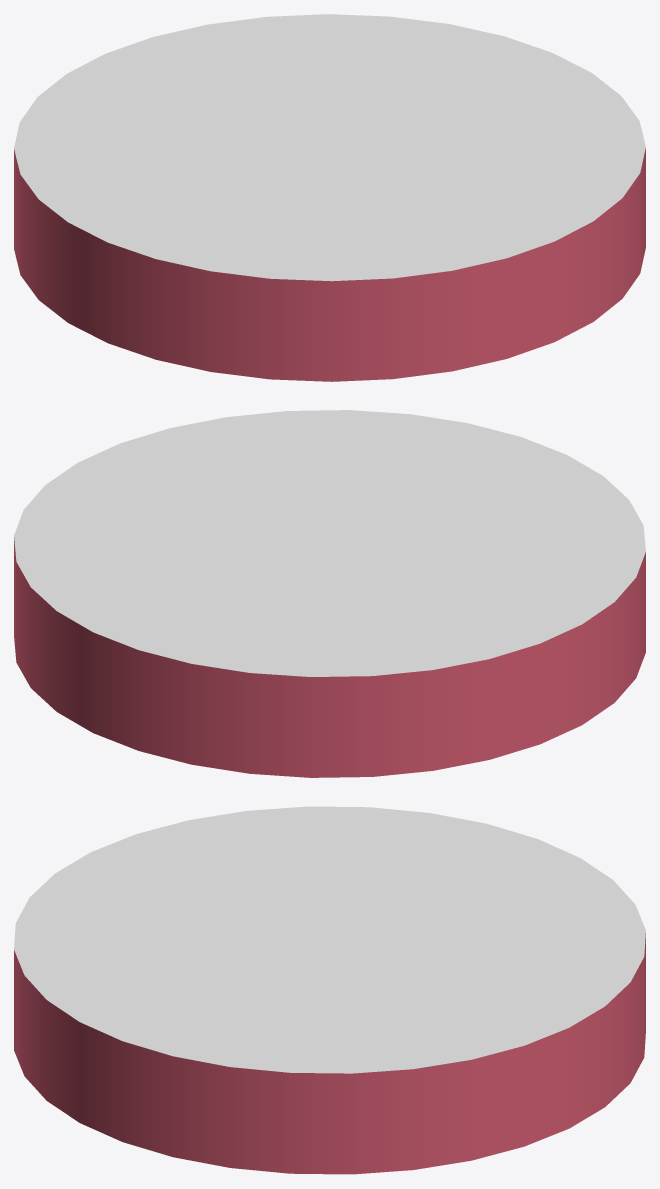
Rendered from Cat-StayArea.fbx.
3 renders of one model, top to bottom at view 1: azimuth 30°, elevation 25°; view 2: azimuth 150°, elevation 25°; view 3: azimuth 270°, elevation 25°, orthographic.
Visible parts, largest first — view 1: Round.001; view 2: Round.001; view 3: Round.001.
Boxes of the visible parts, left/top/right/bottom form: Round.001: left=14, top=14, right=645, bottom=381; Round.001: left=14, top=410, right=645, bottom=777; Round.001: left=14, top=806, right=645, bottom=1174.
Bounding box in the file's own units: 57.07 × 10.05 × 57.07.
